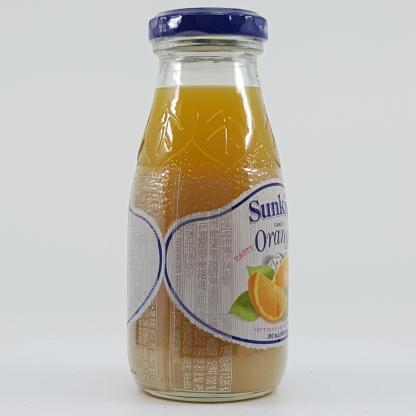----------180ML: (127, 8, 289, 402)
